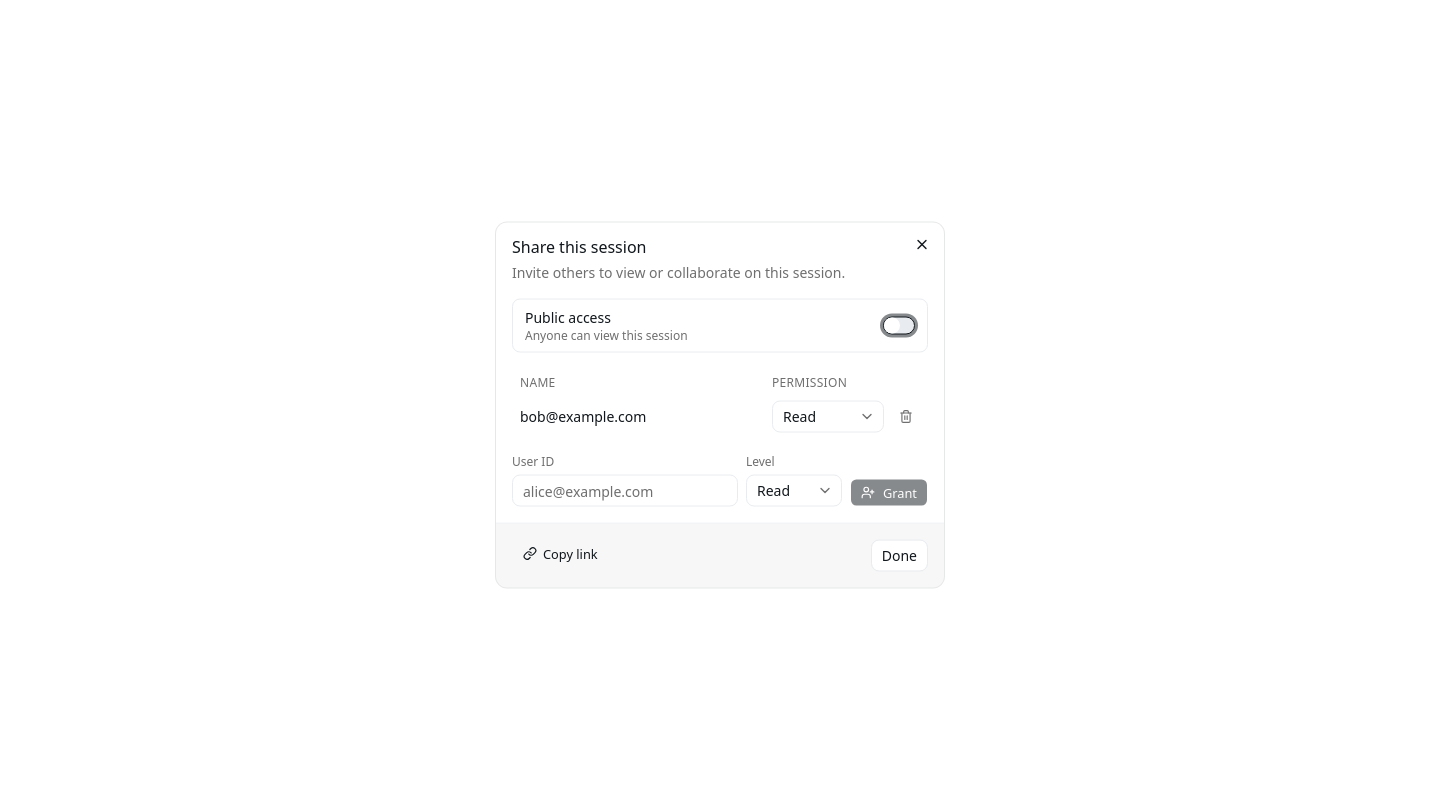
Test: PermissionsModal › surfaces a server error from a failed revoke
The image size is (1440, 810).
Expected: the text "bob@example.com" is shown, [520, 406, 646, 426]
Click the button named "revoke" in the row of "bob@example.com" at (906, 416), box [892, 402, 920, 430]
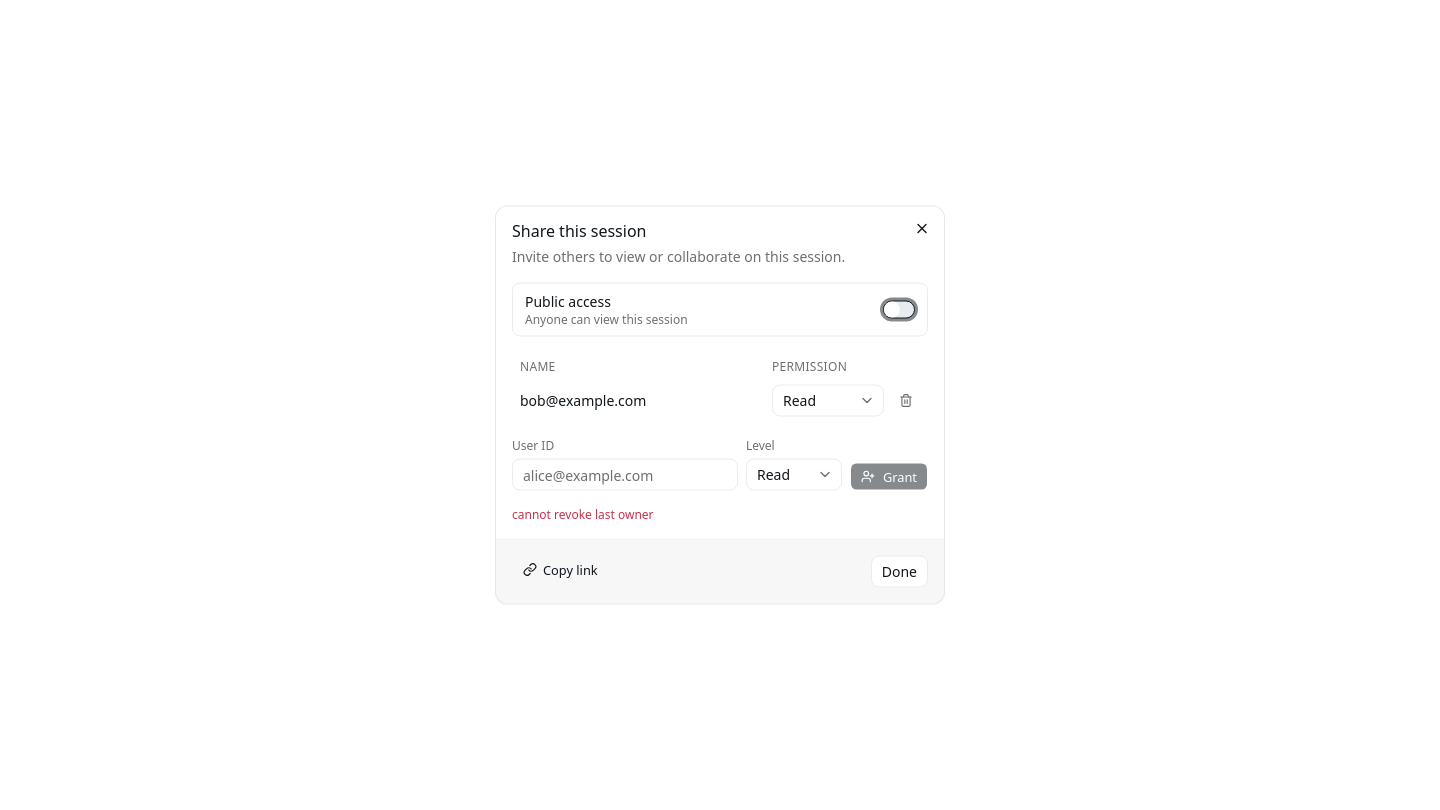
Result: the text "cannot revoke last owner" is shown at [512, 506, 654, 522]
